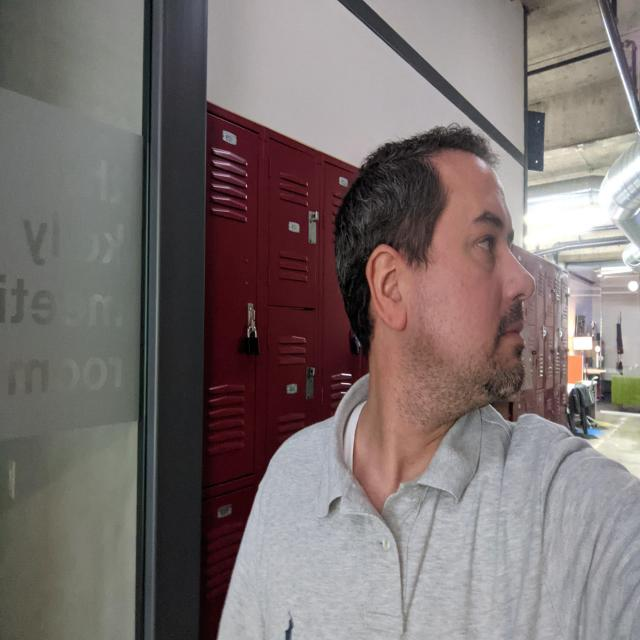face: (387, 163, 537, 402)
